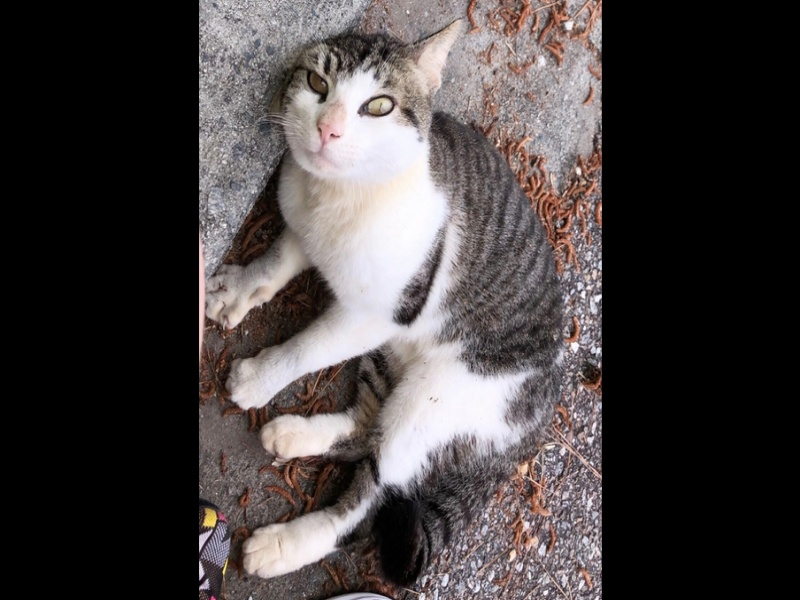cat: (207, 16, 568, 591)
